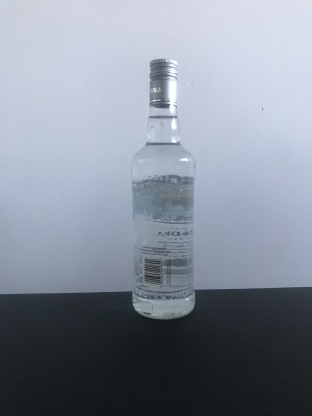nakretka: (148, 57, 178, 109)
